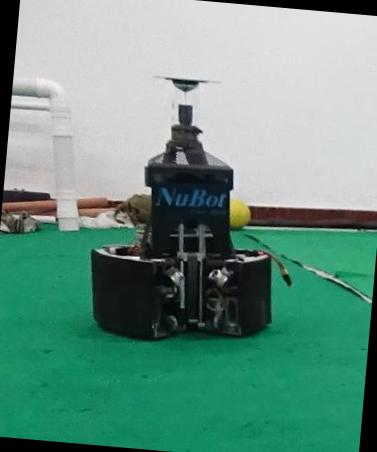ball: (228, 196, 250, 229)
robot: (91, 77, 270, 339)
